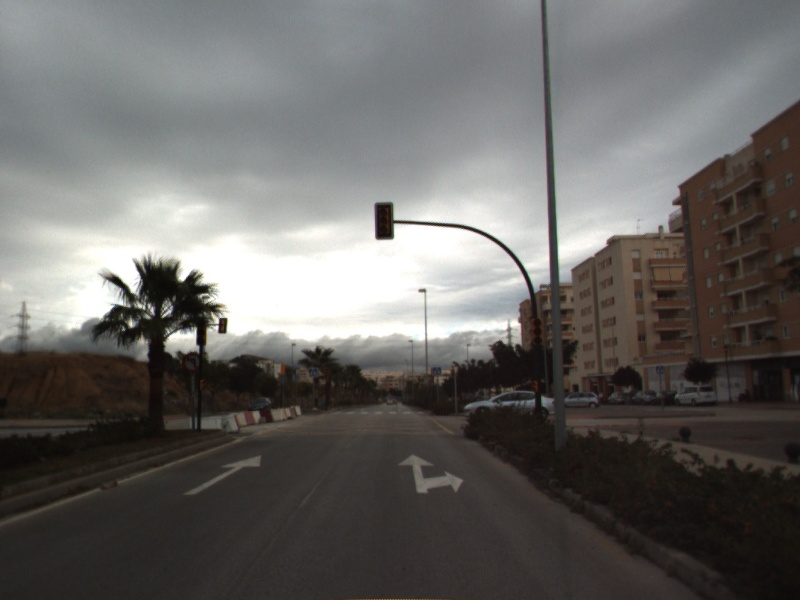STRAIGHT: (181, 453, 263, 497)
STRAIGHT_RIGHT: (396, 452, 465, 495)
